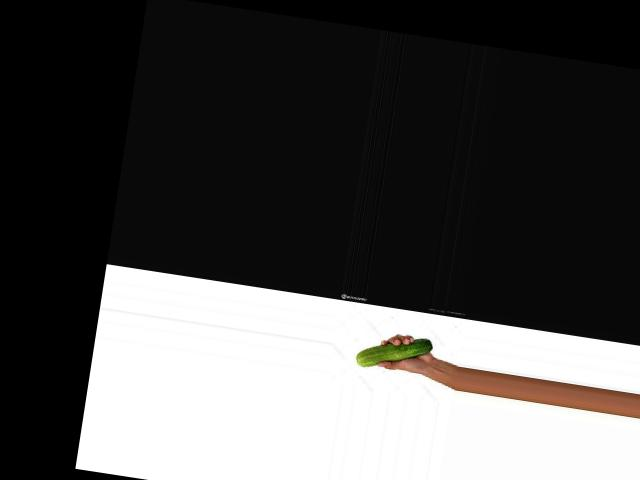cucumber: (355, 329, 434, 377)
